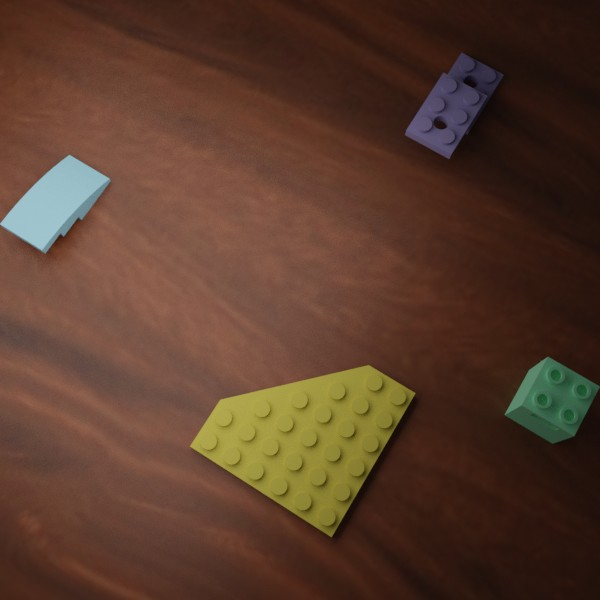lego: (189, 365, 415, 537), (0, 154, 110, 253), (404, 52, 503, 159), (504, 356, 600, 443)
